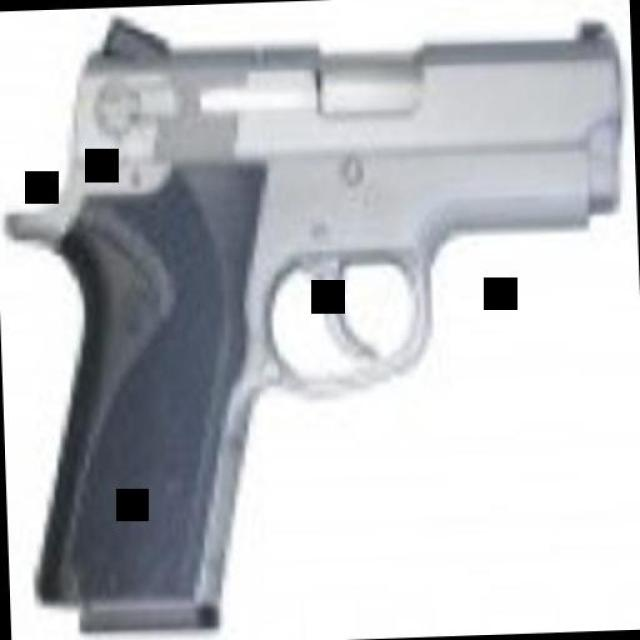gun: (0, 0, 632, 621)
